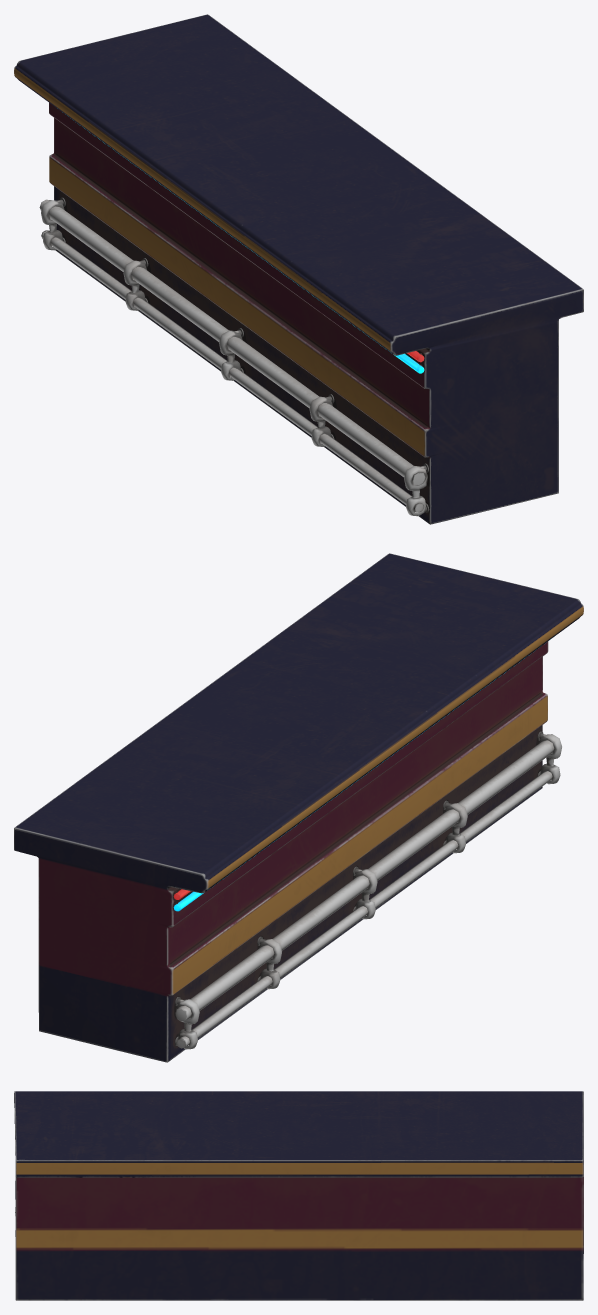
Rendered from SM_Counter3.fbx.
3 renders of one model, top to bottom at view 1: azimuth 30°, elevation 25°; view 2: azimuth 150°, elevation 25°; view 3: azimuth 270°, elevation 25°, orthographic. The views are drawn at different scales.
Parts seen in each view (by area): view 1: SM_Counter3_LOD0; view 2: SM_Counter3_LOD0; view 3: SM_Counter3_LOD0.
Part boxes in pixels (<box>): SM_Counter3_LOD0: <box>14,14,583,524</box>; SM_Counter3_LOD0: <box>14,553,583,1062</box>; SM_Counter3_LOD0: <box>14,1091,583,1300</box>.
Bounding box in the file's own units: 122 × 411 × 119.
Materials: 1 (1 with a texture image).
